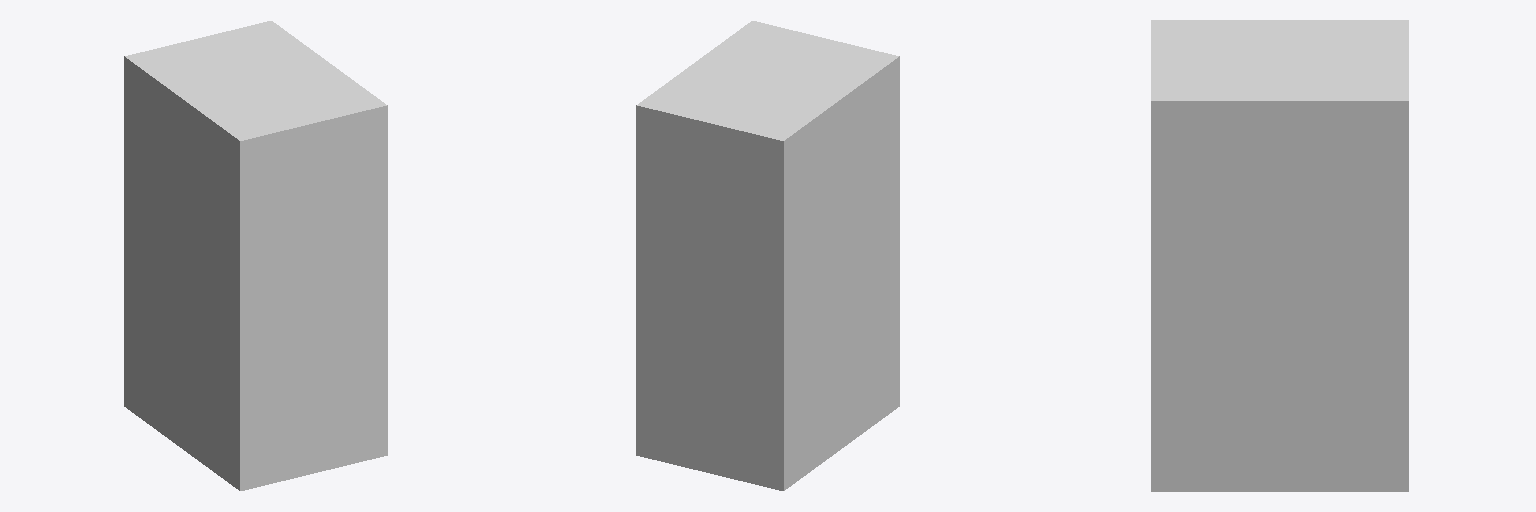
robot.urdf — cubic_model:
<?xml version="1.0" ?>
<!-- =================================================================================== -->
<!-- |    This document was autogenerated by xacro from robotiq_arg2f_85_model.xacro   | -->
<!-- |    EDITING THIS FILE BY HAND IS NOT RECOMMENDED                                 | -->
<!-- =================================================================================== -->
<robot name="cubic_model">
  <link name="base_link">
    <inertial>
      <origin rpy="0 0 0" xyz="0 0 0"/>
       <mass value="0"/>
       <inertia ixx="1" ixy="0" ixz="0" iyy="1" iyz="0" izz="1"/>
    </inertial>
  </link>  

  <link name="x_base_link">
    <inertial>
      <origin rpy="0 0 0" xyz="0 0 0"/>
       <mass value="0"/>
       <inertia ixx="1" ixy="0" ixz="0" iyy="1" iyz="0" izz="1"/>
    </inertial>
  </link>  

  <link name="y_base_link">
    <inertial>
      <origin rpy="0 0 0" xyz="0 0 0"/>
       <mass value="0"/>
       <inertia ixx="1" ixy="0" ixz="0" iyy="1" iyz="0" izz="1"/>
    </inertial>
  </link>  

  <link name="z_base_link">
    <inertial>
      <origin rpy="0 0 0" xyz="0 0 0"/>
       <mass value="0"/>
       <inertia ixx="1" ixy="0" ixz="0" iyy="1" iyz="0" izz="1"/>
    </inertial>
  </link>  

  <link name="cubic_base_link">
    <inertial>
      <origin rpy="0 0 0" xyz="0 0 0"/>
       <mass value="1.2"/>
       <inertia ixx="1" ixy="0" ixz="0" iyy="1" iyz="0" izz="1"/>
    </inertial>
    <visual>
      <origin rpy="0 0 0" xyz="0 0 0"/>
      <geometry>
        <box size="0.022 0.03 0.05"/>
      </geometry>
      <material name="Light09">
        <color rgba="0.9 0.9 0.9 1"/>
      </material>
    </visual>
    <collision>
      <origin rpy="0 0 0" xyz="0 0 0"/>
      <geometry>
        <box size="0.022 0.03 0.05"/>
      </geometry>
    </collision>
  </link>  

  <joint name="base_to_x" type="prismatic">
    <origin rpy="0 0 0" xyz="0 0 0"/>
    <parent link="base_link"/>
    <child link="x_base_link"/>
    <axis xyz="1 0 0"/>
    <limit effort="1000" lower="-1" upper="1" velocity="2.0"/>
  </joint>

  <joint name="x_to_y" type="prismatic">
    <origin rpy="0 0 0" xyz="0 0 0"/>
    <parent link="x_base_link"/>
    <child link="y_base_link"/>
    <axis xyz="0 1 0"/>
    <limit effort="1000" lower="-1" upper="1" velocity="2.0"/>
  </joint>

  <joint name="y_to_z" type="prismatic">
    <origin rpy="0 0 0" xyz="0 0 0"/>
    <parent link="y_base_link"/>
    <child link="z_base_link"/>
    <axis xyz="0 0 1"/>
    <limit effort="1000" lower="-2" upper="2" velocity="2.0"/>
  </joint>

  <joint name="z_to_rot" type="revolute">
    <origin rpy="0 0 0" xyz="0 0 0"/>
    <parent link="z_base_link"/>
    <child link="cubic_base_link"/>
    <axis xyz="0 0 1"/>
    <limit effort="1000" lower="-3.14" upper="3.14" velocity="2.0"/>
  </joint>

  <!-- <link name="dummy_center_indicator_link">
    <visual>
      <geometry>
        <box size="0.025 0.122 0.002"/>
      </geometry>
      <material name="Dark4">
        <color rgba="0.4 0.4 0.4 1"/>
      </material>
    </visual>
    <inertial>
      <mass value="0.1" />
      <inertia ixx = "0" ixy = "0" ixz = "0"
               iyx = "0" iyy = "0" iyz = "0"
               izx = "0" izy = "0" izz = "0" />
    </inertial>
  </link>
  <joint name="dummy_center_fixed_joint" type="fixed">
    <parent link="z_base_link"/>
    <child link="dummy_center_indicator_link"/>
    <origin xyz="0 0 -0.013"/>
  </joint> -->

</robot>

--- Facts derived from the render (not from the file) ---
Views: 3 orthographic renders of the robot side by side, from view 1: azimuth 30°, elevation 25°; view 2: azimuth 150°, elevation 25°; view 3: azimuth 270°, elevation 25°.
Model cubic_model with 5 links and 4 joints (1 revolute, 3 prismatic), rooted at base_link, posed every joint at zero.
Links seen in each view (by area): view 1: cubic_base_link; view 2: cubic_base_link; view 3: cubic_base_link.
Link boxes in pixels (bbox=[...]): cubic_base_link: bbox=[124, 21, 387, 490]; cubic_base_link: bbox=[636, 21, 899, 490]; cubic_base_link: bbox=[1151, 20, 1408, 491].
Bounding box of the posed robot: 0.022 × 0.03 × 0.05 m (x, y, z).
Geometry: primitives only (box / cylinder / sphere), no mesh files.
